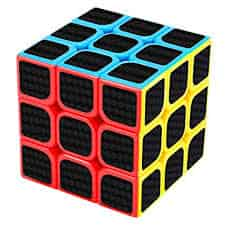rubik_cube: (11, 4, 218, 221)
